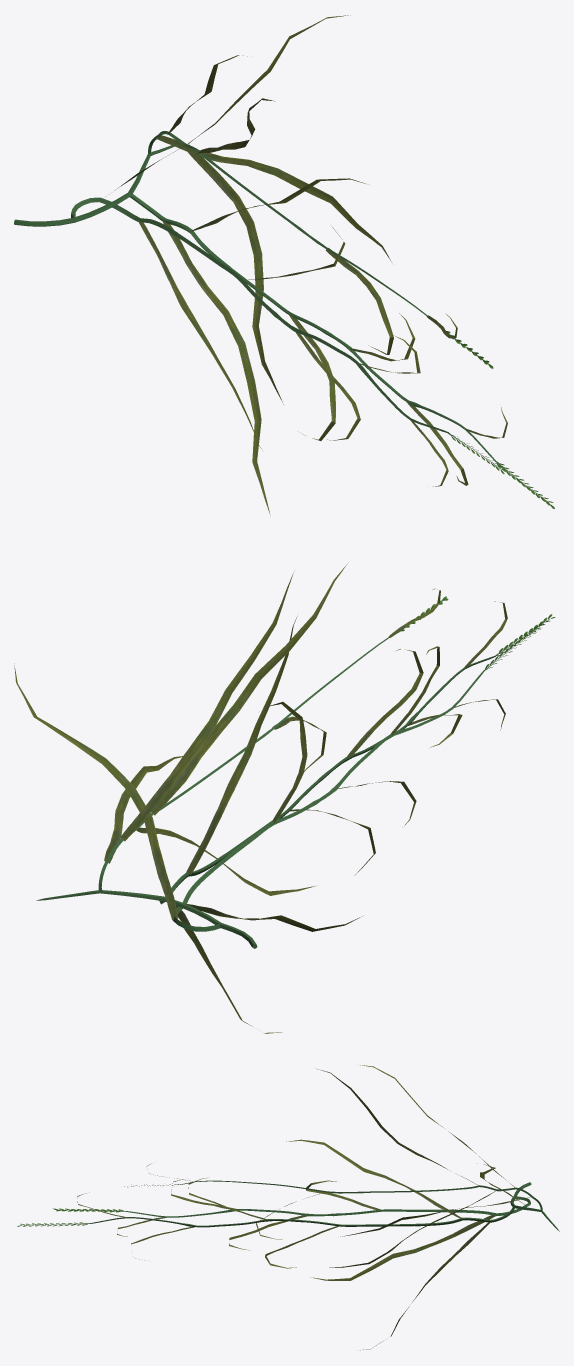
3 renders of one model, top to bottom at view 1: azimuth 30°, elevation 25°; view 2: azimuth 150°, elevation 25°; view 3: azimuth 270°, elevation 25°, orthographic. The views are drawn at different scales.
Visible parts, largest first — view 1: GC08_1; view 2: GC08_1; view 3: GC08_1.
Boxes of the visible parts, x1,y1,x2,y2 form: GC08_1: (14,15,554,514); GC08_1: (14,562,555,1033); GC08_1: (17,1065,559,1350).
Bounding box in the file's own units: 0.3443 × 0.5212 × 0.8987.
3 materials, 3 textured.
